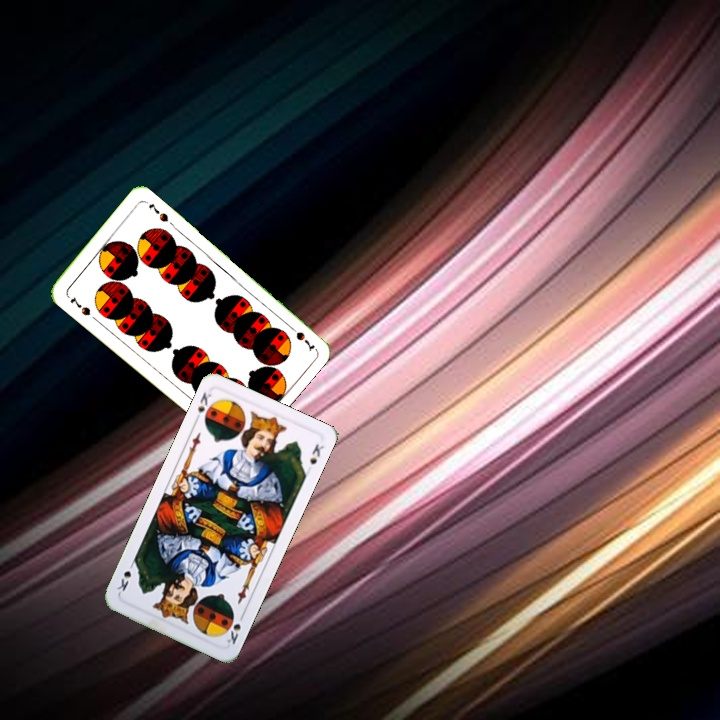S7: (284, 321, 317, 353), (66, 293, 93, 318)
SK: (220, 609, 247, 647), (192, 388, 214, 425)
